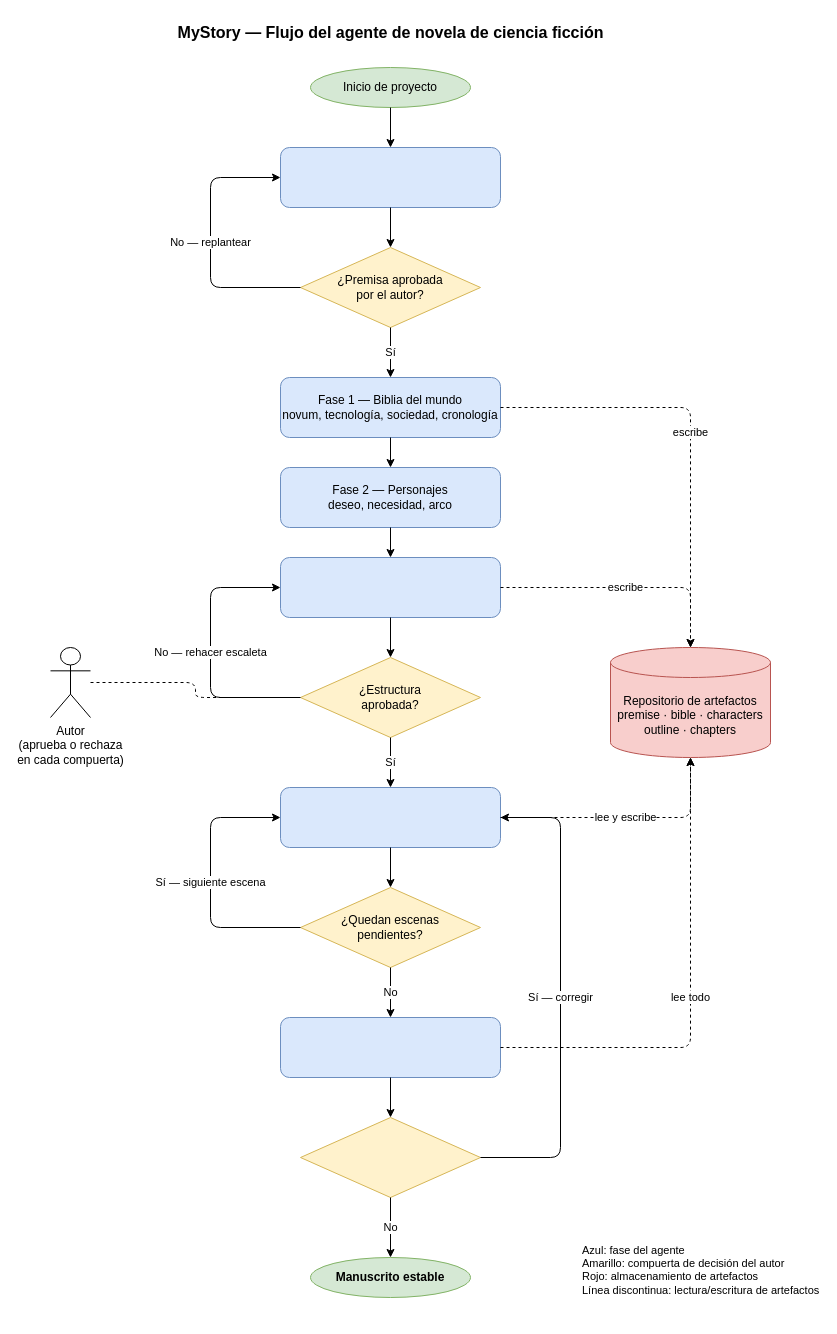
This 837x1334 diagram has some shape labels left out. Each missing label, with the box of its shape:
Fase 0 — Premisa logline, conflicto, tema, tono: (280, 146, 500, 208)
Fase 3 — Escaleta actos, capítulos, escenas: (280, 556, 500, 618)
Fase 4 — Redacción de escena POV, tiempo, registro, extensión: (280, 786, 500, 848)
Fase 5 — Continuidad y revisión cronología, tecnología, personajes, registro: (280, 1016, 500, 1078)
¿Hallazgos ALTO o MEDIO?: (300, 1116, 480, 1198)
